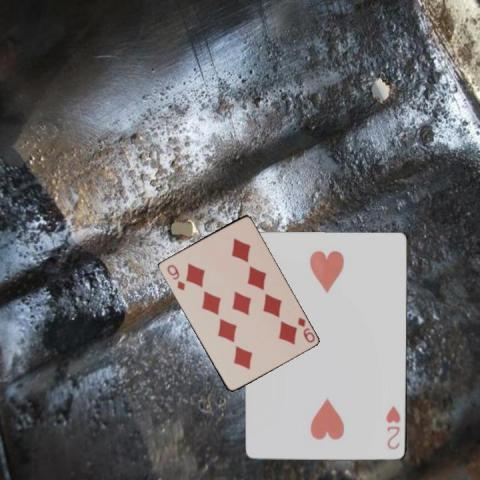2h: (383, 404, 402, 452)
9d: (163, 261, 186, 292), (295, 314, 316, 344)
